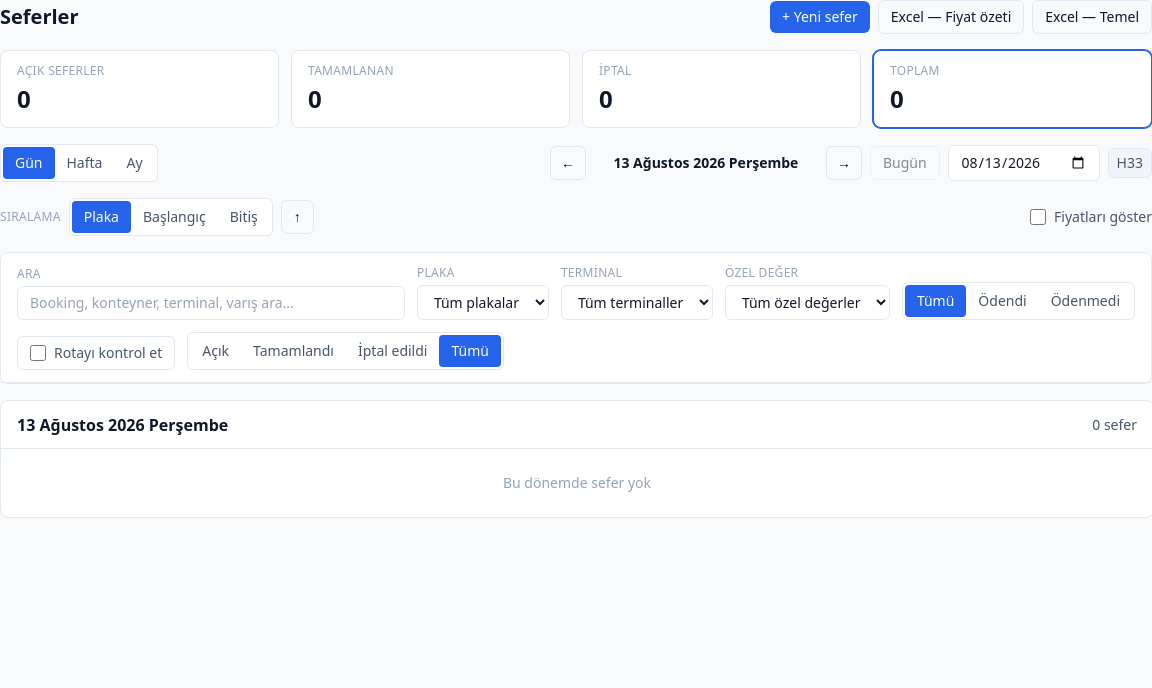
Test: LOSRIT › presentation › translates the creation choice
Click the button "+ Yeni sefer". click: (820, 17)
box: [770,1,870,33]
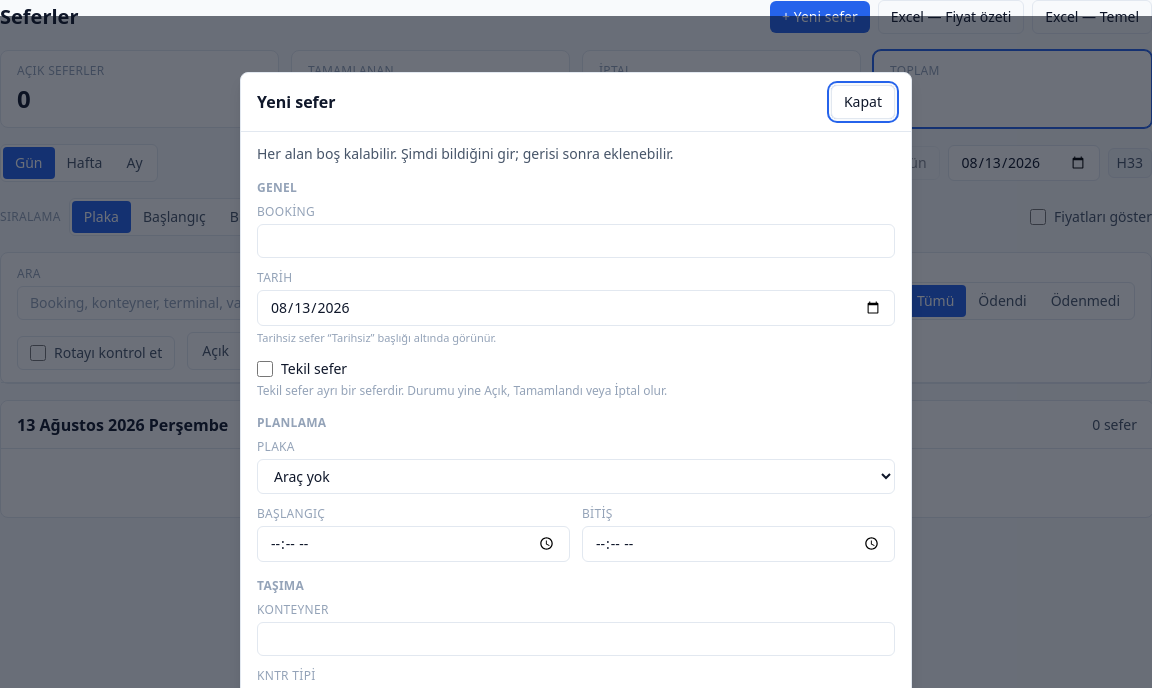
Expected: the checkbox labelled "Tekil sefer" is shown, [257,360,273,376]
